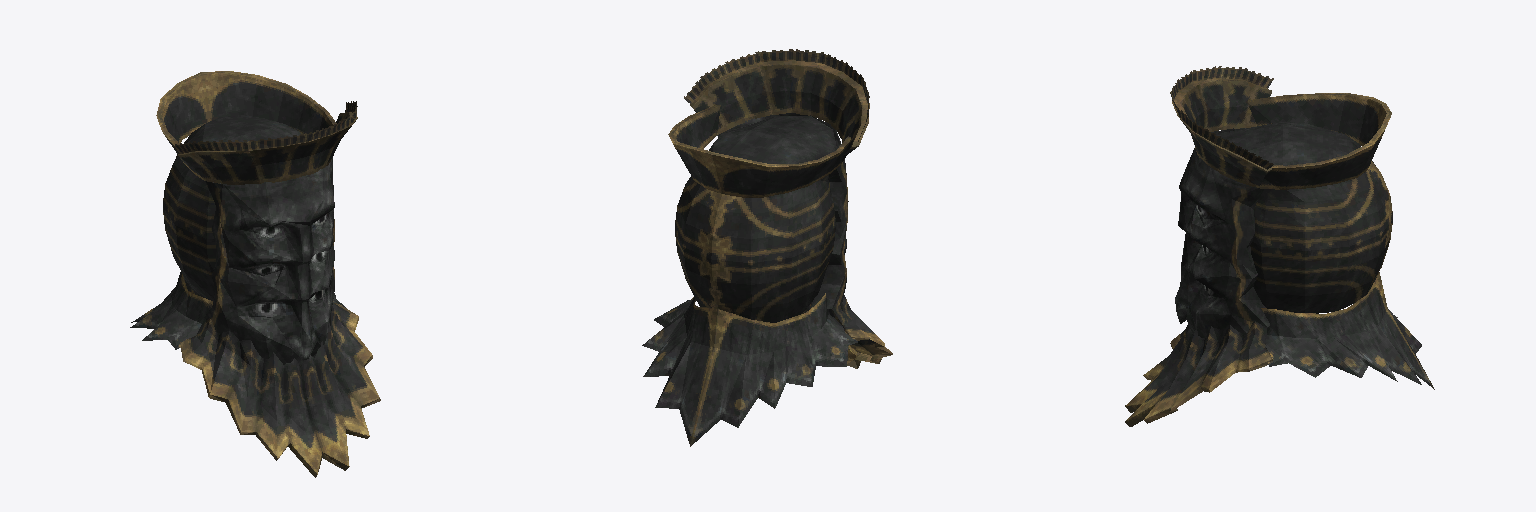
3 views of the same model, side by side, from view 1: azimuth 30°, elevation 25°; view 2: azimuth 150°, elevation 25°; view 3: azimuth 270°, elevation 25° (orthographic).
Visible parts, largest first — view 1: mesh1, mesh0, mesh2; view 2: mesh1, mesh0, mesh2; view 3: mesh1, mesh0, mesh2.
Boxes of the visible parts, x1=… form: mesh1: x1=130, y1=115, x2=380, y2=477; mesh0: x1=156, y1=71, x2=357, y2=184; mesh2: x1=172, y1=101, x2=357, y2=153; mesh1: x1=642, y1=113, x2=892, y2=446; mesh0: x1=668, y1=60, x2=869, y2=197; mesh2: x1=684, y1=49, x2=869, y2=141; mesh1: x1=1125, y1=122, x2=1434, y2=426; mesh0: x1=1172, y1=78, x2=1391, y2=189; mesh2: x1=1170, y1=66, x2=1273, y2=169.
Size of the model in its own units: 0.2844 by 0.4598 by 0.394.
Materials: 3 (1 with a texture image).